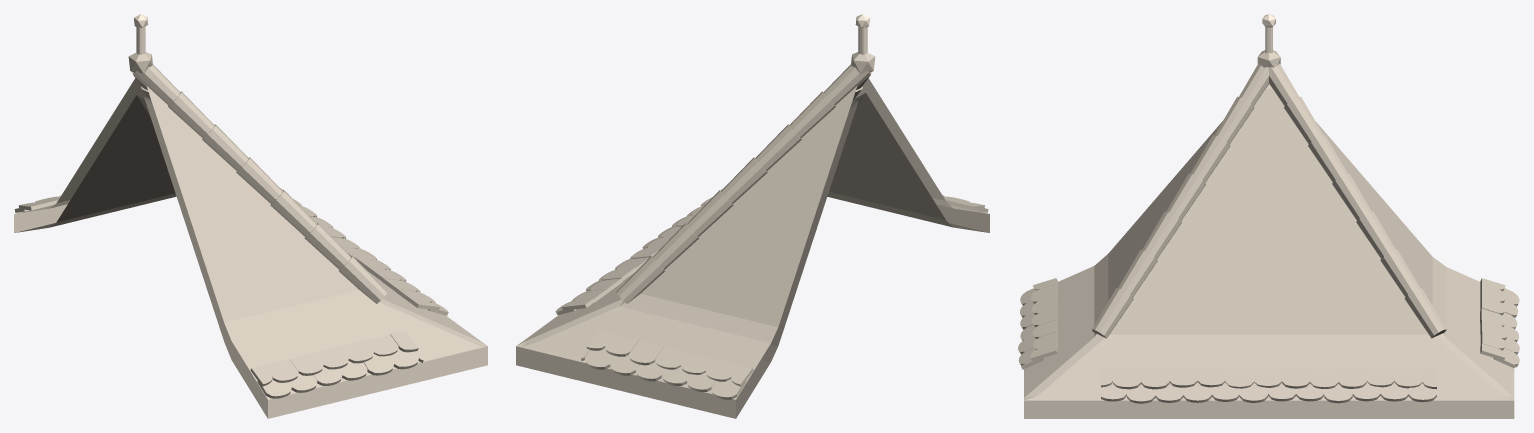
Rendered from SM_VK_Roof_Hip.fbx.
The picture shows the model from 3 angles, left to right: view 1: azimuth 30°, elevation 25°; view 2: azimuth 150°, elevation 25°; view 3: azimuth 270°, elevation 25°; orthographic projection. The views are drawn at different scales.
Parts seen in each view (by area): view 1: SM_VK_Roof_Hip.001; view 2: SM_VK_Roof_Hip.001; view 3: SM_VK_Roof_Hip.001.
Part boxes in pixels (box(x1,y1,x2,y2)): SM_VK_Roof_Hip.001: box(14, 14, 487, 418); SM_VK_Roof_Hip.001: box(516, 14, 989, 418); SM_VK_Roof_Hip.001: box(1018, 14, 1519, 418).
Bounding box in the file's own units: 4.66 × 5.9 × 8.9.
